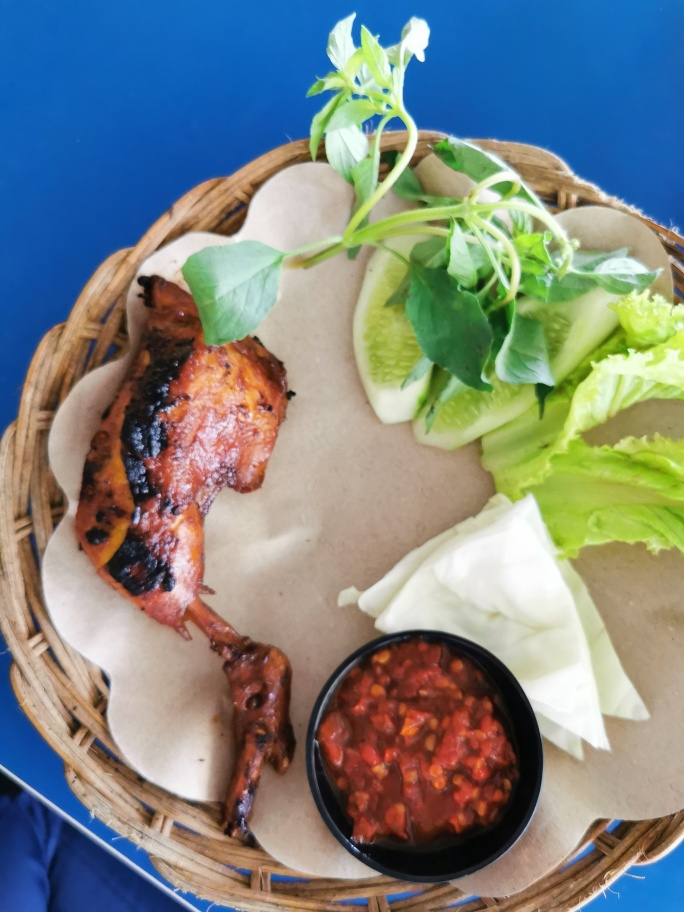ayam bakar: (75, 269, 331, 849)
